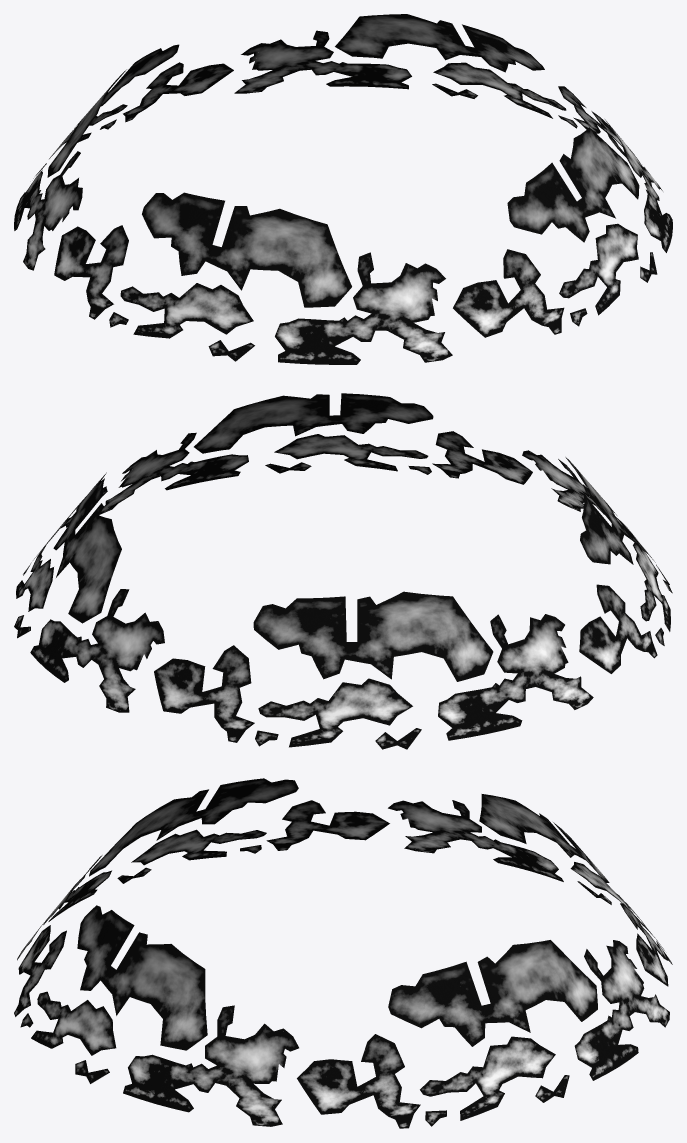
File: cloudring2.fbx
The picture shows the model from 3 angles, top to bottom: view 1: azimuth 30°, elevation 25°; view 2: azimuth 150°, elevation 25°; view 3: azimuth 270°, elevation 25°; orthographic projection.
Parts seen in each view (by area): view 1: cloudsheet.002; view 2: cloudsheet.002; view 3: cloudsheet.002.
Boxes of the visible parts, x1,y1,x2,y2 form: cloudsheet.002: [14, 14, 672, 364]; cloudsheet.002: [14, 393, 672, 749]; cloudsheet.002: [14, 778, 672, 1128].
Size of the model in its own units: 223 by 44.54 by 223.
